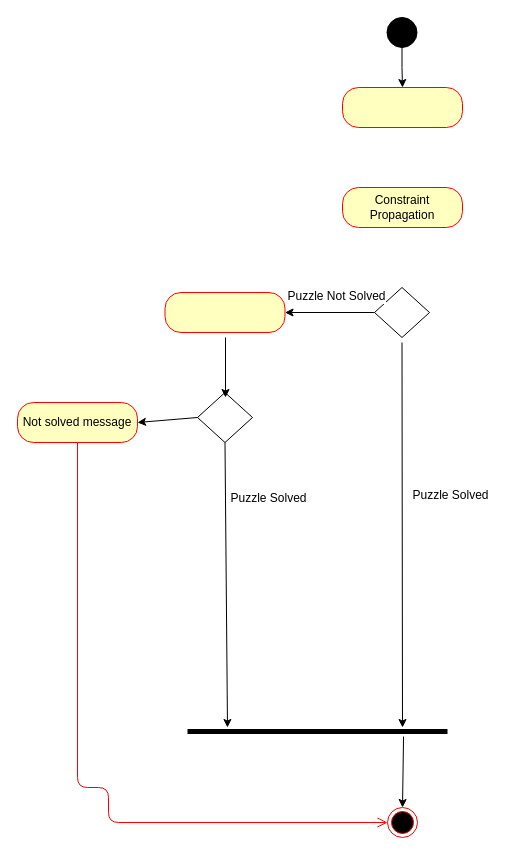
The diagram is 505 pixels wide and 855 high, and some of its shapes have lost their labels. The shapes that lost their labels are listed below. From the top down, each one's centre as x and y in pixels, then its label:
At pixel 402 107: "Parser".
At pixel 224 312: "Brute Force".
